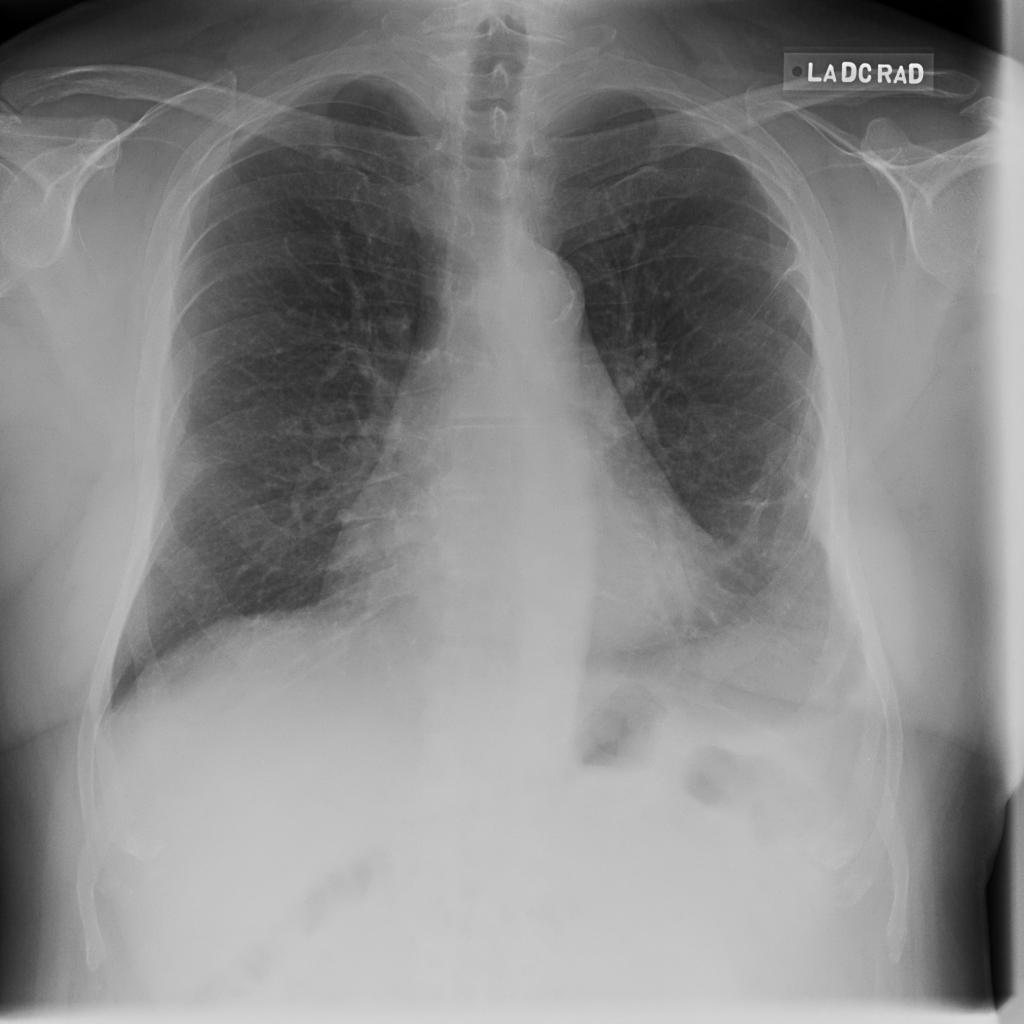Nodule: (135, 206, 159, 229)
